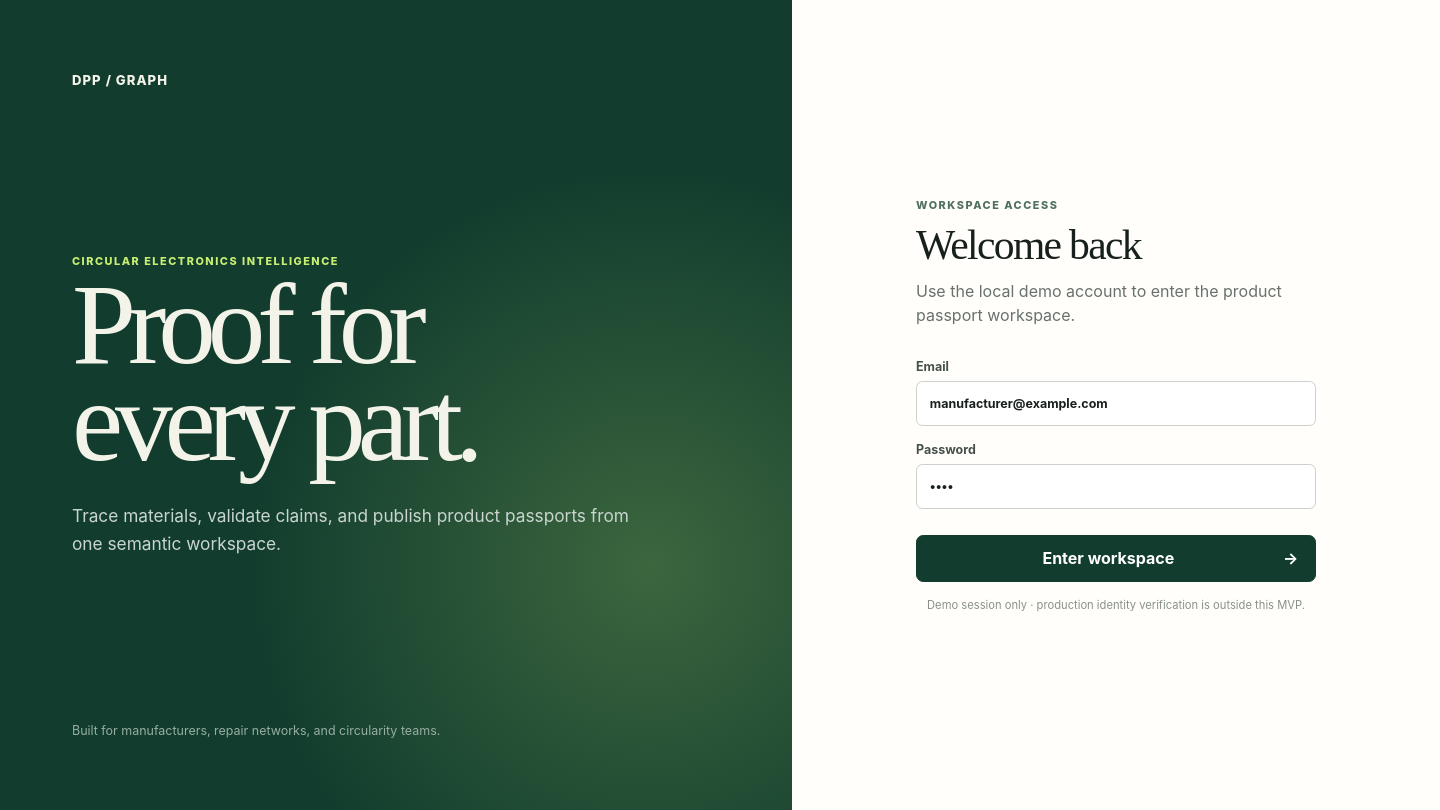
Test case: Phase 5 workspace › enters the workspace and loads the dashboard
Expected: the heading "Welcome back" is shown, [916, 222, 1141, 268]
Click the button "Enter workspace →" at [1116, 558], box [916, 535, 1316, 582]
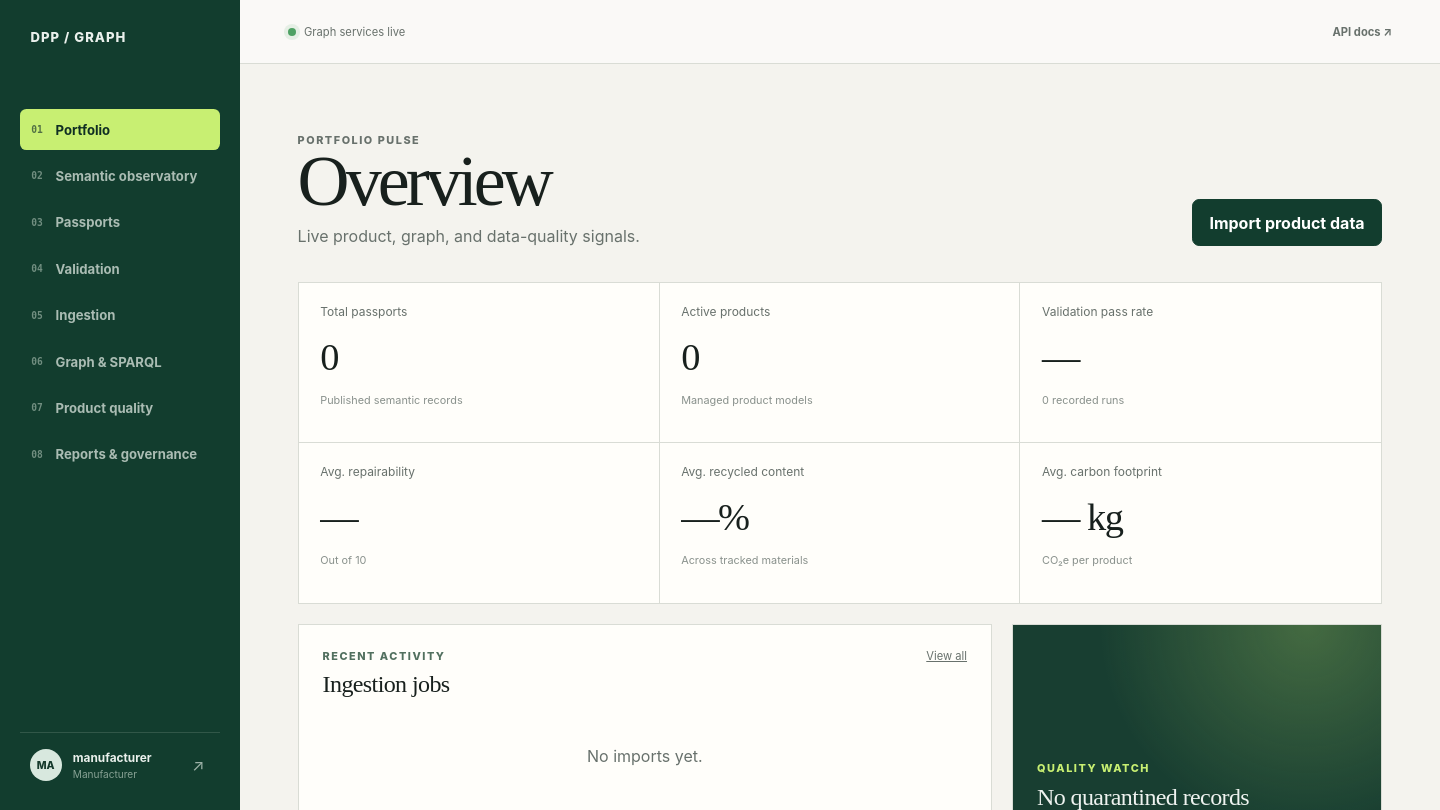
Result: the heading "Overview" is shown at [298, 141, 550, 221]
Result: the link "03 Passports" is shown at [31, 214, 120, 230]
Result: the link "06 Graph & SPARQL" is shown at [31, 354, 162, 370]
